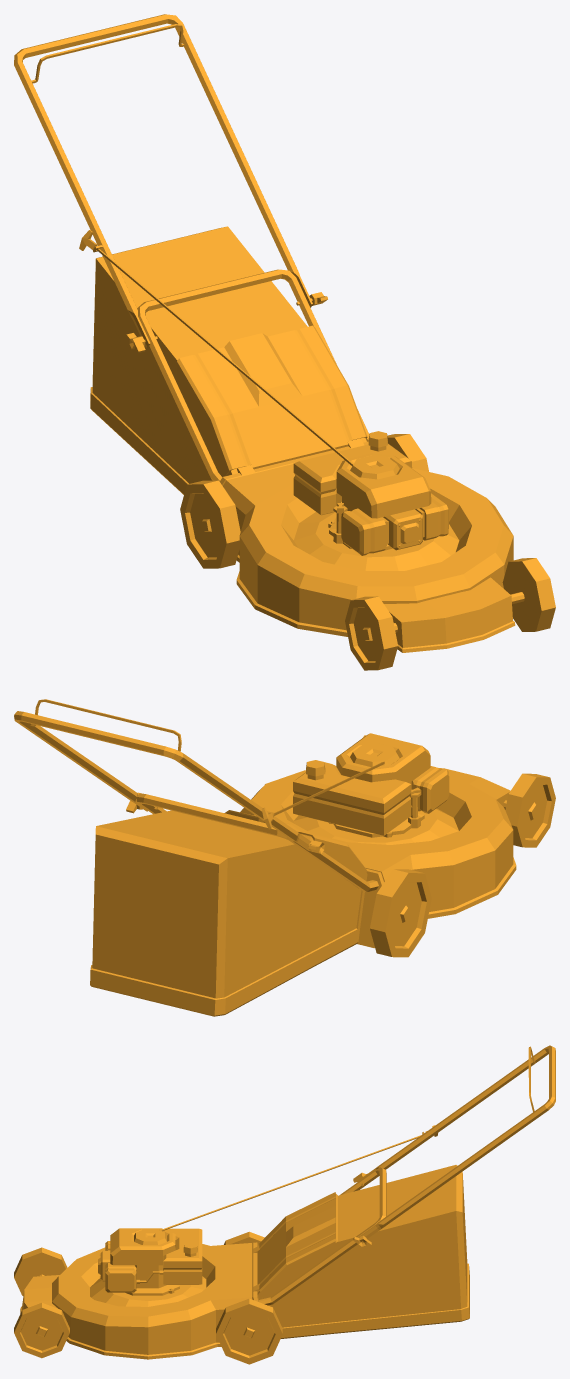
The model's file is SM_Grassmower_A.fbx.
3 views of the same model, one above another, from view 1: azimuth 30°, elevation 25°; view 2: azimuth 150°, elevation 25°; view 3: azimuth 270°, elevation 25° (orthographic). The views are drawn at different scales.
Parts seen in each view (by area): view 1: grassmower-a-base, grassmower-a-basket, grassmower-a-cover, grassmower-a-wheels-fr, grassmower-a-wheels-ba, grassmower-a-starter; view 2: grassmower-a-basket, grassmower-a-base, grassmower-a-wheels-ba, grassmower-a-wheels-fr, grassmower-a-cover, grassmower-a-switch, grassmower-a-starter; view 3: grassmower-a-base, grassmower-a-basket, grassmower-a-cover, grassmower-a-wheels-fr, grassmower-a-wheels-ba, grassmower-a-starter.
Boxes of the visible parts, x1,y1,x2,y2 form: grassmower-a-base: (14, 14, 515, 652); grassmower-a-basket: (90, 226, 366, 494); grassmower-a-cover: (177, 325, 367, 476); grassmower-a-wheels-fr: (345, 558, 555, 670); grassmower-a-wheels-ba: (180, 434, 428, 568); grassmower-a-starter: (79, 230, 353, 466); grassmower-a-basket: (90, 810, 367, 1016); grassmower-a-base: (14, 711, 516, 948); grassmower-a-wheels-ba: (370, 869, 431, 957); grassmower-a-wheels-fr: (363, 735, 555, 847); grassmower-a-cover: (224, 810, 366, 888); grassmower-a-switch: (30, 699, 181, 751); grassmower-a-starter: (261, 761, 384, 829); grassmower-a-base: (20, 1045, 555, 1359); grassmower-a-basket: (257, 1165, 469, 1338); grassmower-a-cover: (257, 1192, 335, 1297); grassmower-a-wheels-fr: (14, 1247, 69, 1358); grassmower-a-wheels-ba: (216, 1231, 282, 1364); grassmower-a-starter: (160, 1125, 437, 1230).
Size of the model in its own units: 0.5833 by 0.826 by 1.57.
